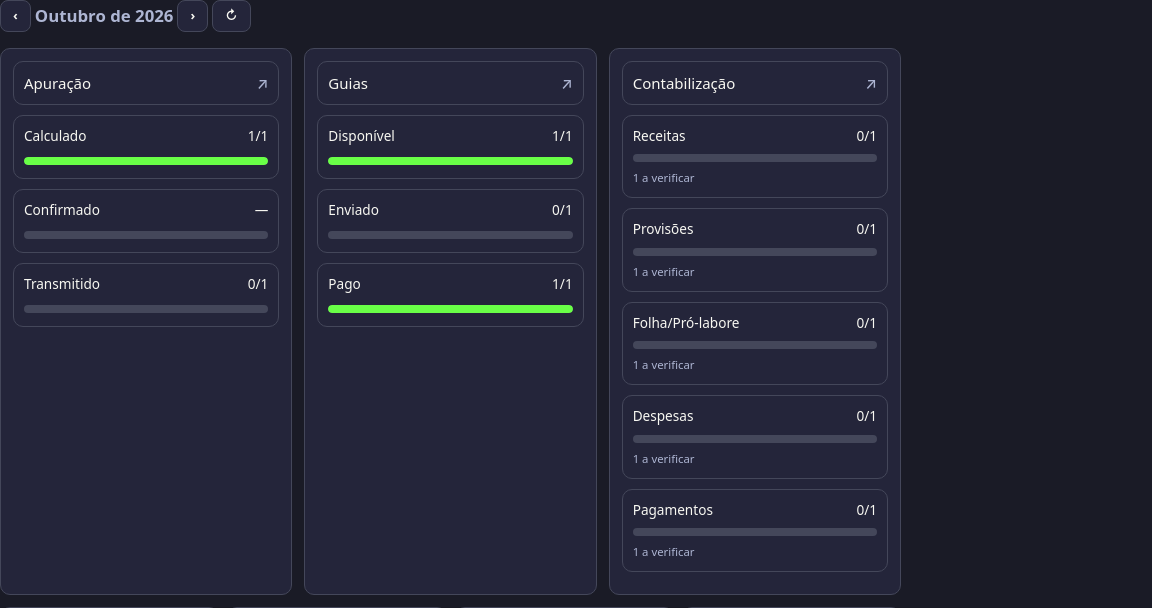
Test: papel VIEWER não oferece conferência gravável
Step 1. Click the button "Apuração" → (58, 83), box top-left (13, 61), bottom-right (279, 105)
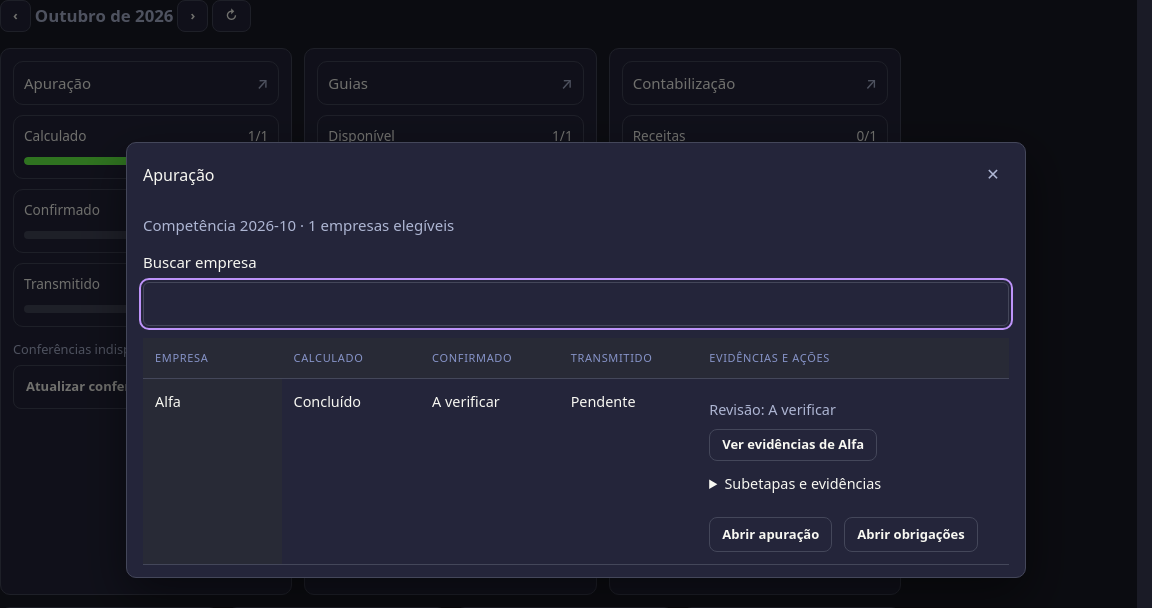
Expected: the link "Abrir apuração" is shown, top-left (709, 517), bottom-right (832, 552)
